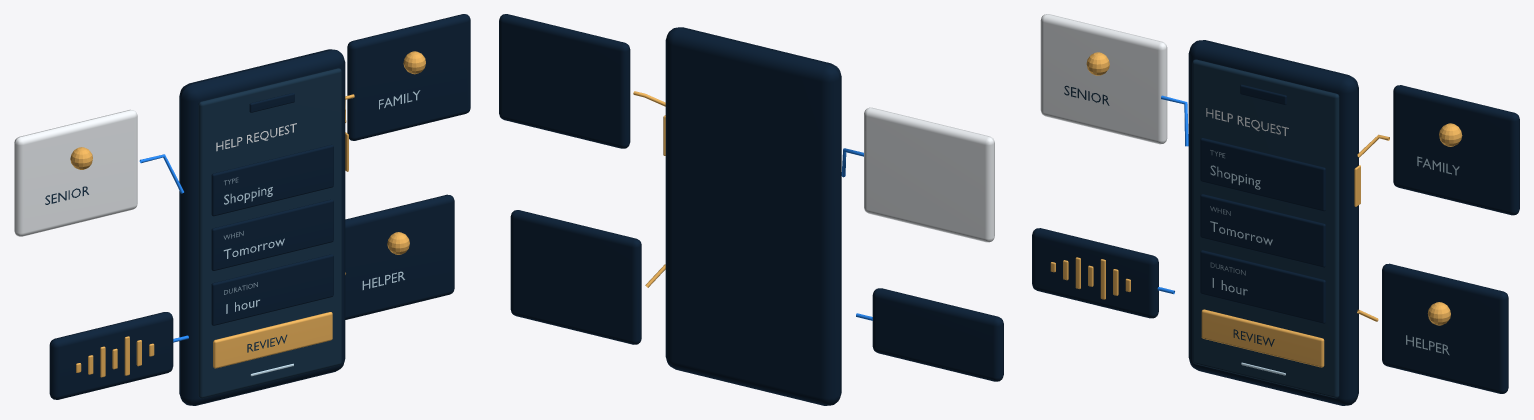
Rendered from care-hero.glb.
3 renders of one model, left to right at view 1: azimuth 30°, elevation 25°; view 2: azimuth 150°, elevation 25°; view 3: azimuth 330°, elevation 25°, orthographic. The views are drawn at different scales.
Visible parts, largest first — view 1: Phone glass, Role SENIOR, Role FAMILY, Rounded phone body, Role HELPER, Voice tile, Request field DURATION, Request field TYPE, Request field WHEN, Review button, Camera pill, FAMILY avatar (+2 smaller); view 2: Rounded phone body, Role HELPER, Role FAMILY, Role SENIOR, Voice tile; view 3: Phone glass, Role SENIOR, Role FAMILY, Role HELPER, Rounded phone body, Voice tile, Request field DURATION, Request field WHEN, Request field TYPE, Review button, Camera pill, SENIOR avatar (+2 smaller).
Part boxes in pixels (x1,y1,x2,y2): Phone glass: [198, 68, 341, 398]; Role SENIOR: [14, 109, 137, 236]; Role FAMILY: [347, 14, 470, 140]; Rounded phone body: [179, 49, 345, 405]; Role HELPER: [345, 194, 454, 319]; Voice tile: [49, 312, 173, 399]; Request field DURATION: [211, 254, 333, 325]; Request field TYPE: [211, 144, 333, 216]; Request field WHEN: [211, 199, 333, 270]; Review button: [213, 312, 332, 368]; Camera pill: [249, 93, 294, 112]; FAMILY avatar: [403, 51, 425, 74]; Rounded phone body: [665, 27, 841, 405]; Role HELPER: [510, 210, 641, 344]; Role FAMILY: [499, 14, 630, 148]; Role SENIOR: [864, 107, 994, 242]; Voice tile: [872, 288, 1003, 381]; Phone glass: [1192, 59, 1339, 398]; Role SENIOR: [1040, 14, 1167, 144]; Role FAMILY: [1393, 85, 1519, 215]; Role HELPER: [1382, 263, 1508, 393]; Rounded phone body: [1188, 40, 1358, 405]; Voice tile: [1032, 228, 1158, 318]; Request field DURATION: [1200, 250, 1325, 323]; Request field WHEN: [1200, 194, 1325, 267]; Request field TYPE: [1200, 138, 1325, 211]; Review button: [1201, 309, 1324, 367]; Camera pill: [1240, 84, 1286, 105]; SENIOR avatar: [1086, 52, 1109, 75].
Bounding box in the file's own units: 5.1 × 3.4 × 0.7225.
